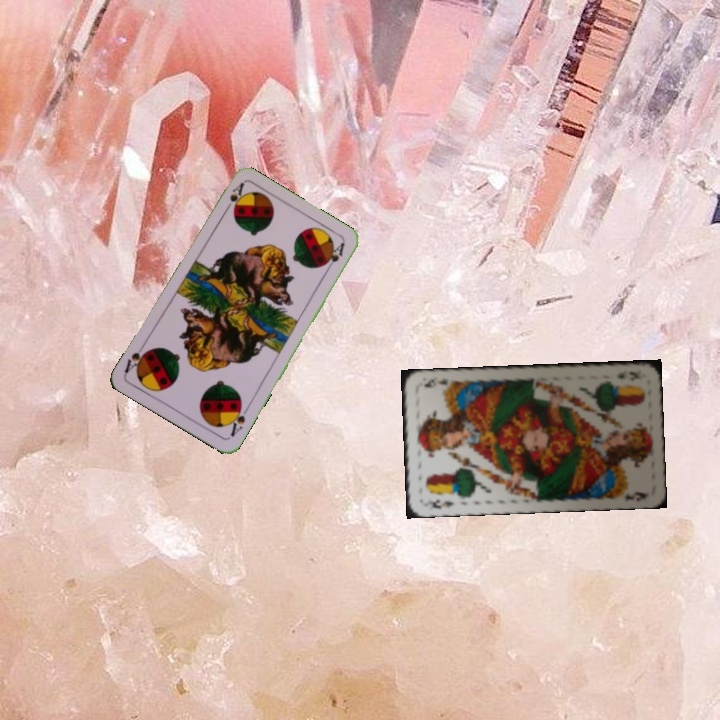EK: (428, 495, 456, 512), (613, 368, 643, 381)
SA: (220, 179, 247, 216), (225, 400, 248, 439)
